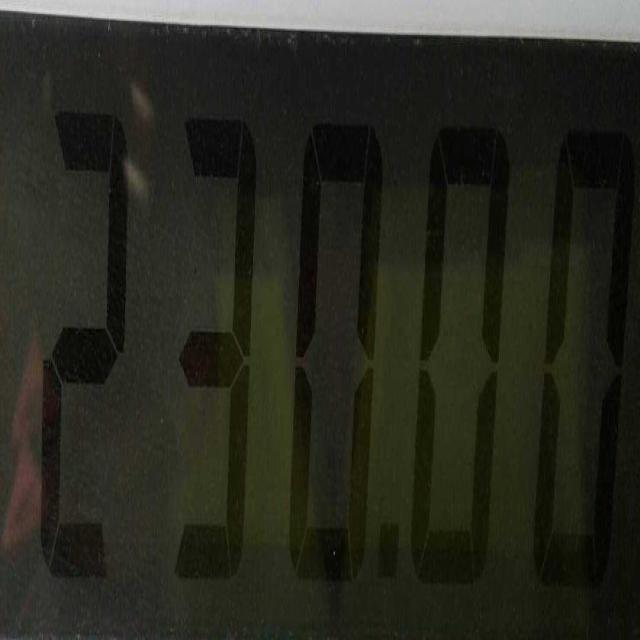.: (376, 514, 401, 602)
0: (287, 88, 388, 619), (534, 94, 634, 630), (408, 100, 510, 622)
2: (31, 62, 146, 618)
3: (160, 86, 262, 607)
